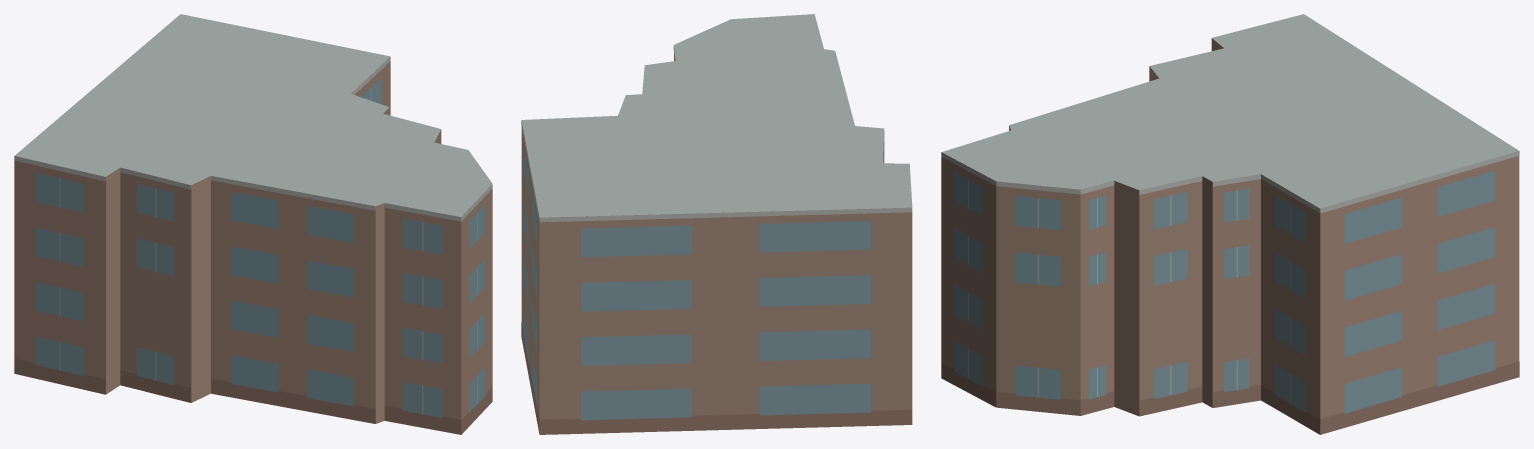
File: survey-upis-32669590.glb
3 renders of one model, left to right at view 1: azimuth 30°, elevation 25°; view 2: azimuth 150°, elevation 25°; view 3: azimuth 270°, elevation 25°, orthographic. The views are drawn at different scales.
Visible parts, largest first — view 1: survey-upis-32669590.tmp; view 2: survey-upis-32669590.tmp; view 3: survey-upis-32669590.tmp.
Boxes of the visible parts, x1,y1,x2,y2 form: survey-upis-32669590.tmp: [14, 14, 492, 434]; survey-upis-32669590.tmp: [521, 14, 912, 434]; survey-upis-32669590.tmp: [941, 14, 1519, 434].
Size of the model in its own units: 21.23 by 11.5 by 26.64.
